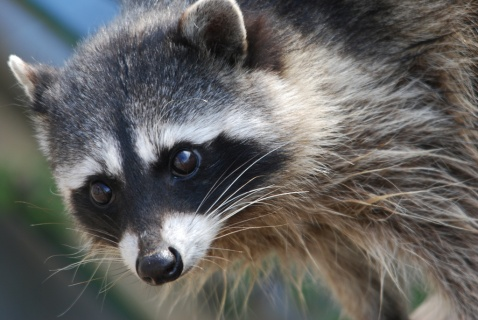Raccoon: (7, 0, 477, 319)
